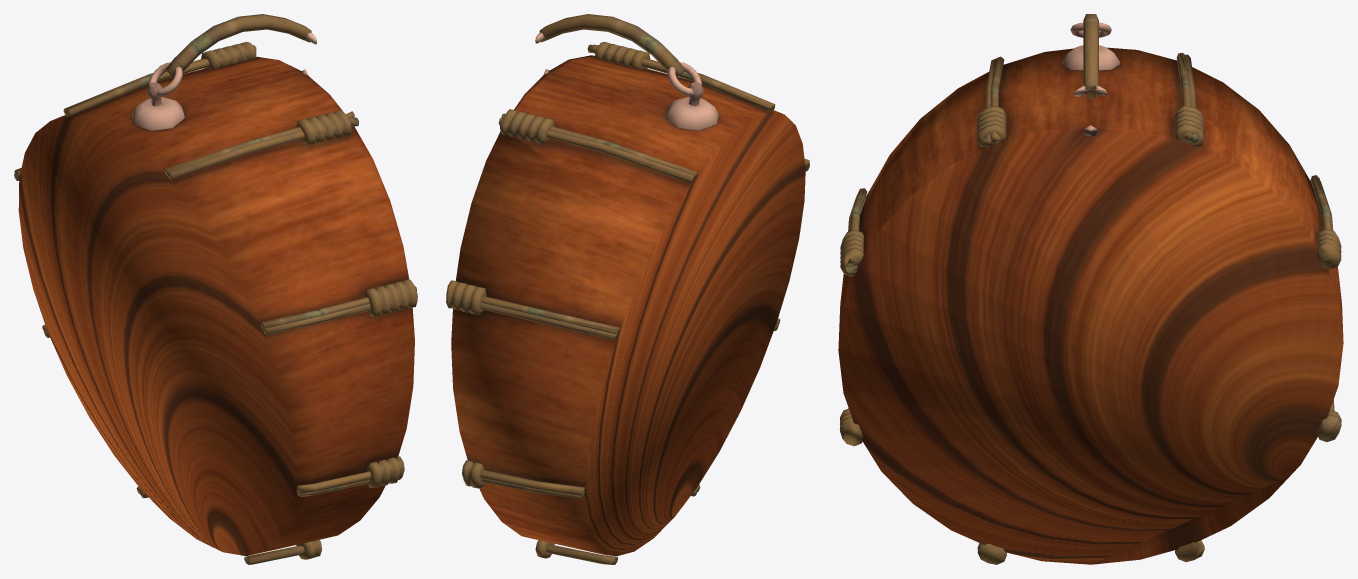
File: Gendang_Terputus3.fbx
The picture shows the model from 3 angles, left to right: view 1: azimuth 30°, elevation 25°; view 2: azimuth 150°, elevation 25°; view 3: azimuth 270°, elevation 25°; orthographic projection. The views are drawn at different scales.
Visible parts, largest first — view 1: Cylinder_Gendang_0.003; view 2: Cylinder_Gendang_0.003; view 3: Cylinder_Gendang_0.003.
Part boxes in pixels (bbox=[...]): Cylinder_Gendang_0.003: bbox=[14, 14, 417, 564]; Cylinder_Gendang_0.003: bbox=[446, 14, 809, 564]; Cylinder_Gendang_0.003: bbox=[838, 14, 1343, 564].
Bounding box in the file's own units: 512 × 1264 × 1092.
1 material, 1 textured.
